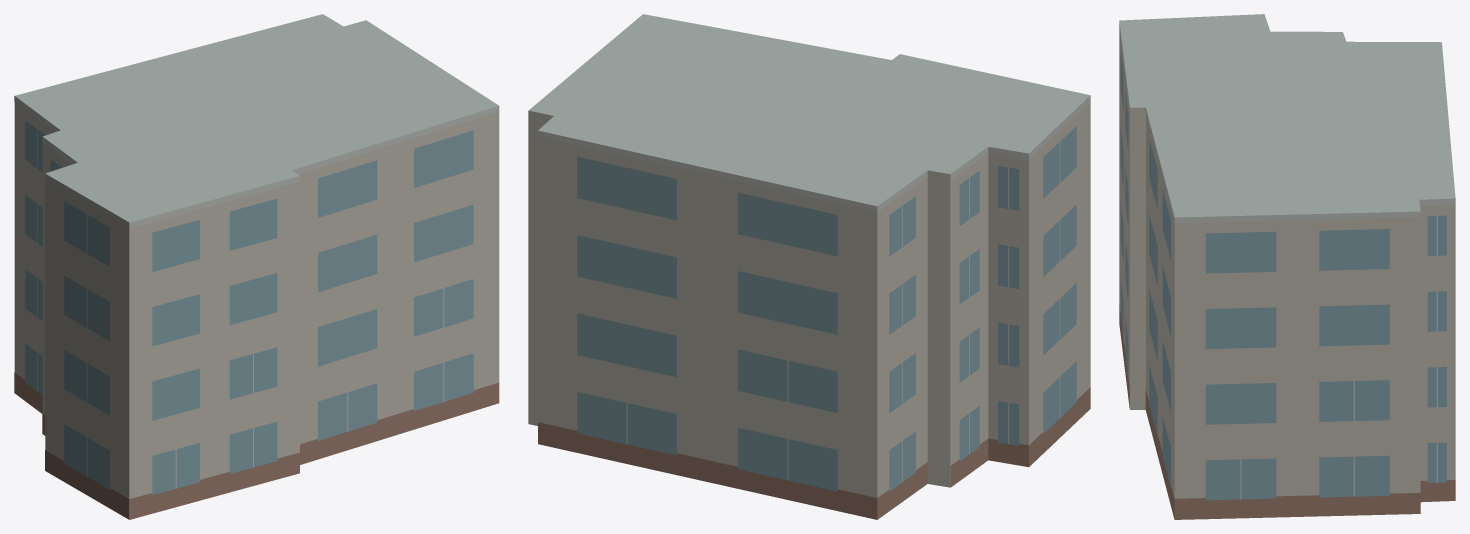
File: survey-upis-32523944.glb
The picture shows the model from 3 angles, left to right: view 1: azimuth 30°, elevation 25°; view 2: azimuth 150°, elevation 25°; view 3: azimuth 270°, elevation 25°; orthographic projection. The views are drawn at different scales.
Parts seen in each view (by area): view 1: survey-upis-32523944.tmp; view 2: survey-upis-32523944.tmp; view 3: survey-upis-32523944.tmp.
Boxes of the visible parts, x1=… form: survey-upis-32523944.tmp: x1=14, y1=14, x2=499, y2=519; survey-upis-32523944.tmp: x1=528, y1=14, x2=1090, y2=519; survey-upis-32523944.tmp: x1=1119, y1=14, x2=1455, y2=519.
Size of the model in its own units: 17.62 by 12.2 by 12.31.
